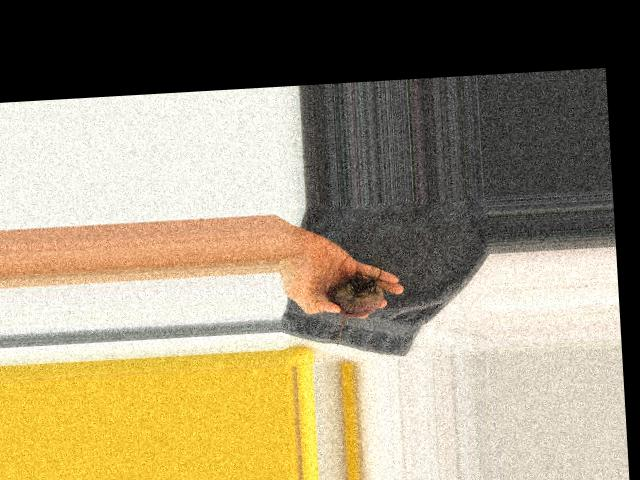beet: (326, 272, 385, 346)
